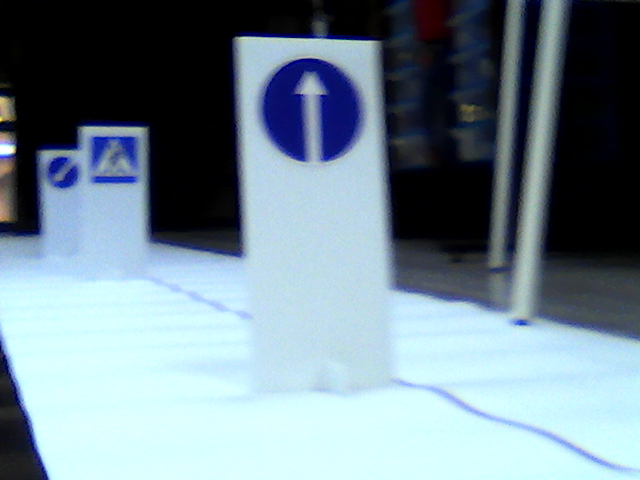forw: (258, 51, 366, 162)
pesh: (89, 133, 143, 186)
prep: (47, 154, 79, 186)
